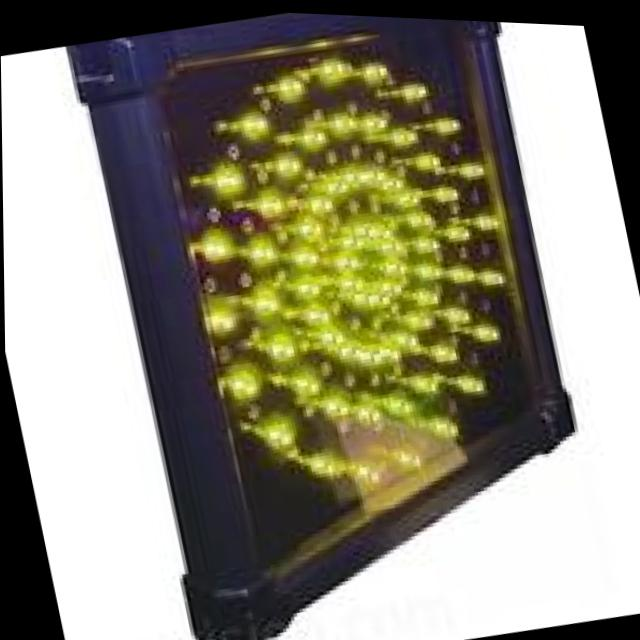yellow_light: (74, 3, 640, 535)
